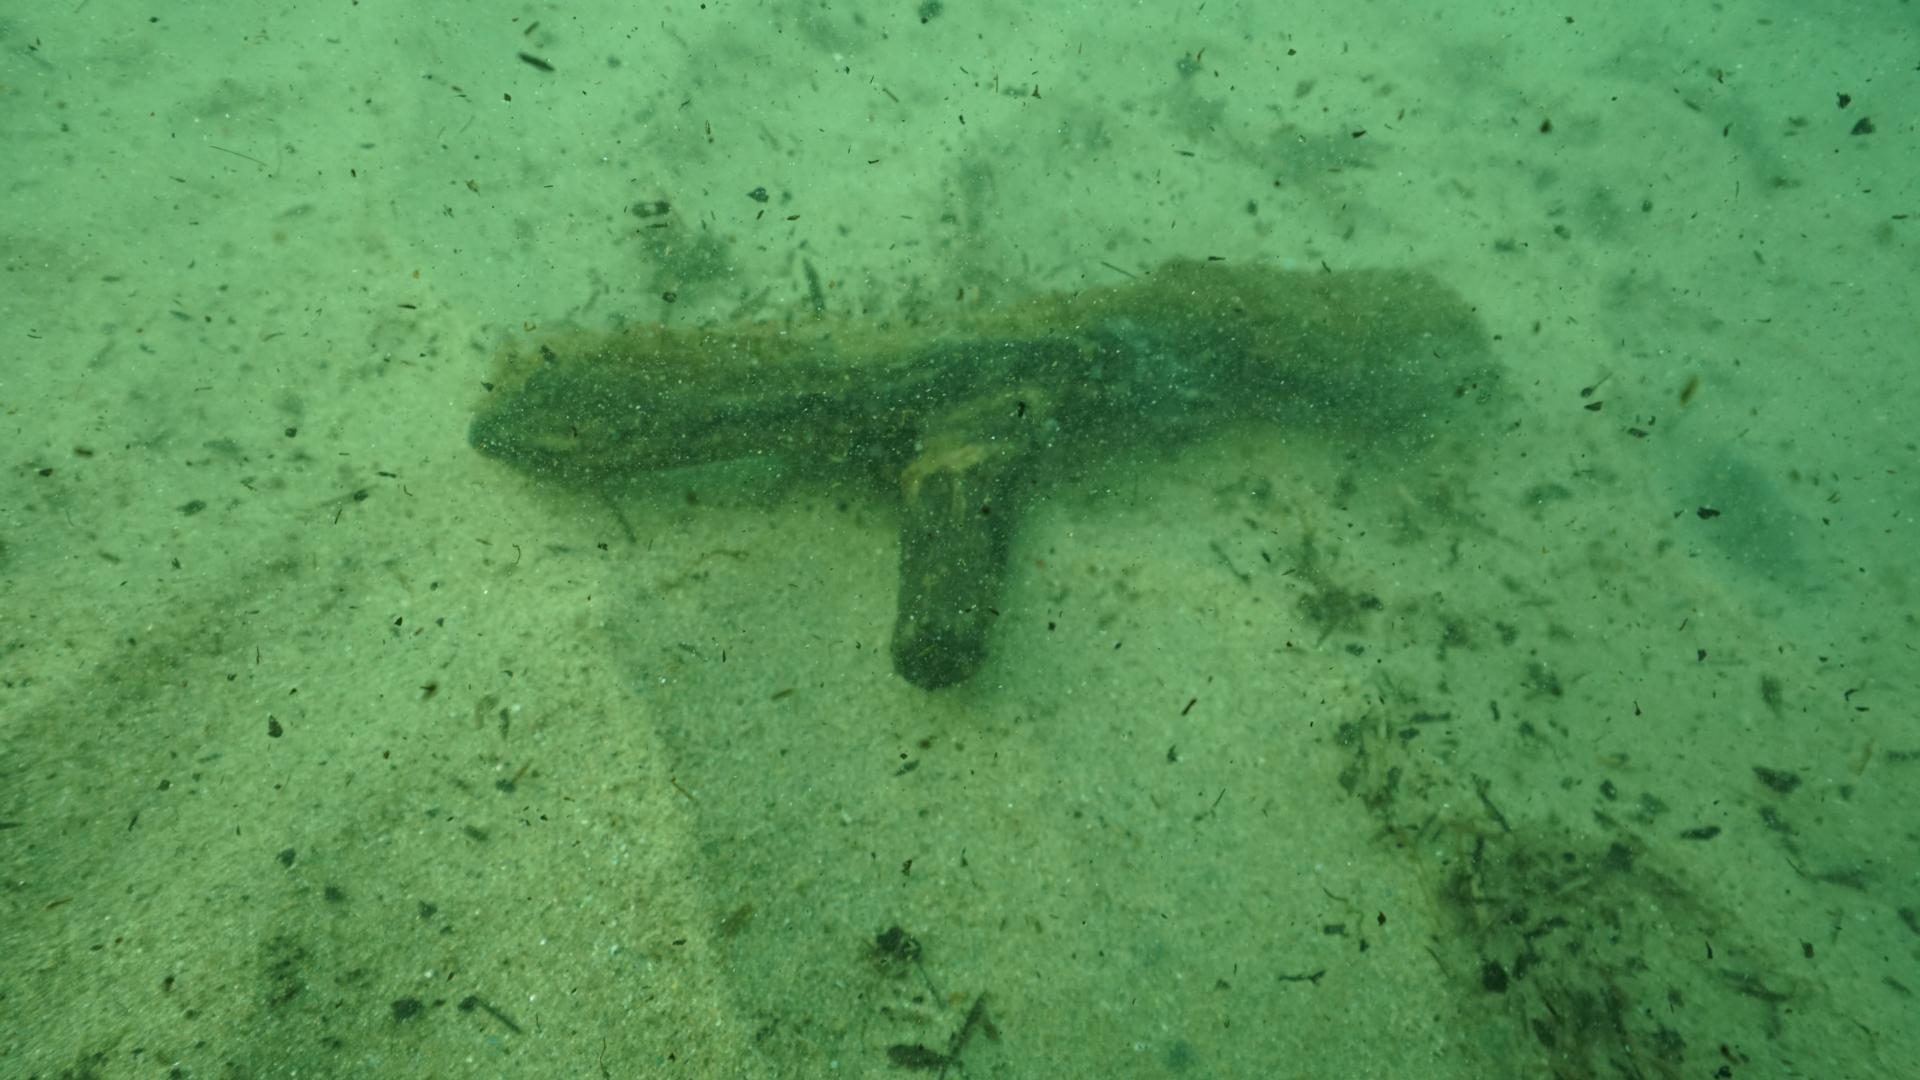wood: (468, 258, 1491, 684)
